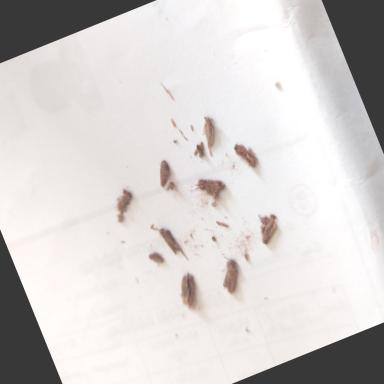pbw: (214, 258, 249, 297), (194, 112, 224, 154), (174, 270, 204, 308), (230, 136, 258, 172), (192, 169, 226, 198), (254, 213, 284, 244), (157, 225, 183, 258), (151, 156, 175, 188), (110, 187, 136, 213), (146, 248, 165, 266)
